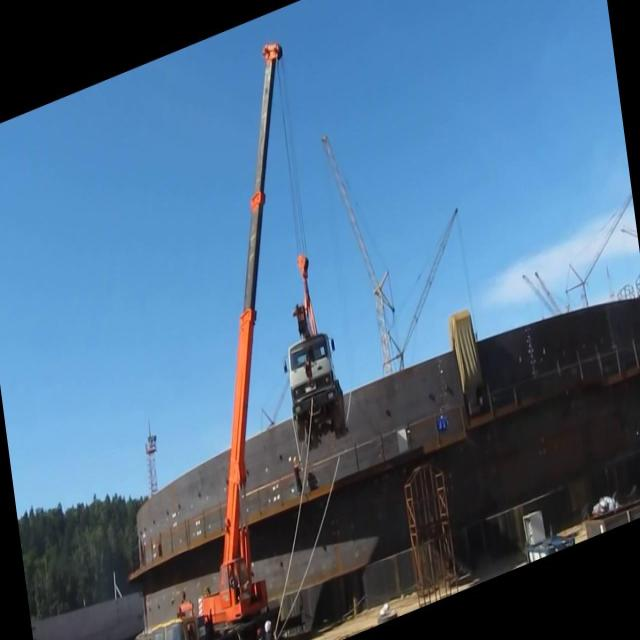crane: (70, 36, 358, 640)
